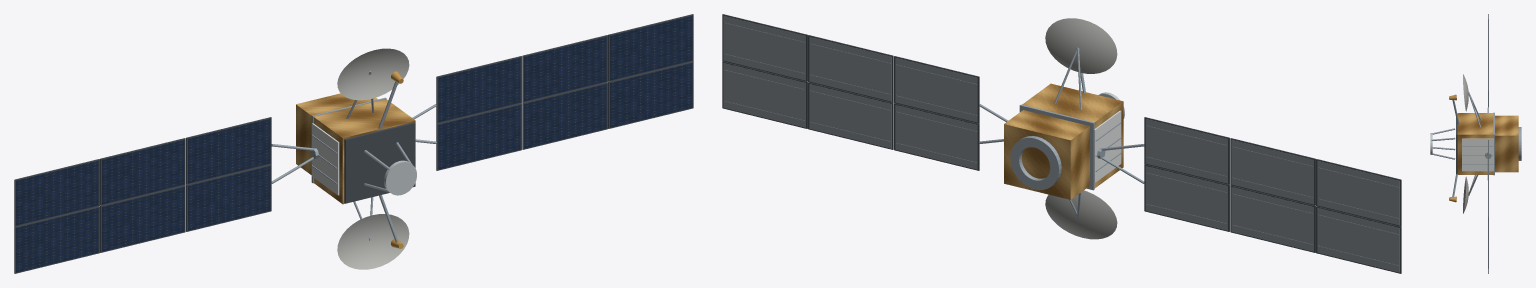
File: ref-as5000-21139.glb
The picture shows the model from 3 angles, left to right: view 1: azimuth 30°, elevation 25°; view 2: azimuth 150°, elevation 25°; view 3: azimuth 270°, elevation 25°; orthographic projection. The views are drawn at different scales.
Visible parts, largest first — view 1: Solar cell panel (×12), Solar panel frame (×12), Communications reflector (×2), Earth-facing deck, Payload module, Service module, Radiator face, Antenna tower platform; view 2: Rear array substrate (×12), Solar panel frame (×12), Communications reflector (×2), Service module, Payload module, Launch adapter ring, Radiator face, Module interface; view 3: Service module, Payload module, Radiator face, Communications reflector (×2), Launch adapter ring, Earth-facing deck, Module interface, Shell hinge strut.
Boxes of the visible parts, x1=… form: Solar cell panel (×12): x1=16, y1=16, x2=692, y2=272; Solar panel frame (×12): x1=14, y1=14, x2=693, y2=273; Communications reflector (×2): x1=337, y1=48, x2=409, y2=269; Earth-facing deck: x1=344, y1=122, x2=415, y2=203; Payload module: x1=313, y1=99, x2=415, y2=204; Service module: x1=296, y1=93, x2=377, y2=174; Radiator face: x1=311, y1=123, x2=339, y2=195; Antenna tower platform: x1=384, y1=160, x2=416, y2=195; Rear array substrate (×12): x1=723, y1=15, x2=1399, y2=272; Solar panel frame (×12): x1=722, y1=14, x2=1401, y2=273; Communications reflector (×2): x1=1045, y1=18, x2=1117, y2=239; Service module: x1=1004, y1=110, x2=1089, y2=199; Payload module: x1=1022, y1=83, x2=1123, y2=188; Launch adapter ring: x1=1010, y1=136, x2=1061, y2=189; Radiator face: x1=1094, y1=110, x2=1121, y2=182; Module interface: x1=1019, y1=104, x2=1094, y2=190; Service module: x1=1495, y1=115, x2=1518, y2=172; Payload module: x1=1457, y1=113, x2=1493, y2=174; Radiator face: x1=1462, y1=138, x2=1493, y2=171; Communications reflector (×2): x1=1463, y1=74, x2=1468, y2=213; Launch adapter ring: x1=1518, y1=127, x2=1521, y2=160; Earth-facing deck: x1=1456, y1=118, x2=1457, y2=173; Module interface: x1=1493, y1=112, x2=1494, y2=175; Shell hinge strut: x1=1468, y1=92, x2=1481, y2=127.
Size of the model in its own units: 21.47 by 6.6 by 4.1.
9 materials, 2 textured.
